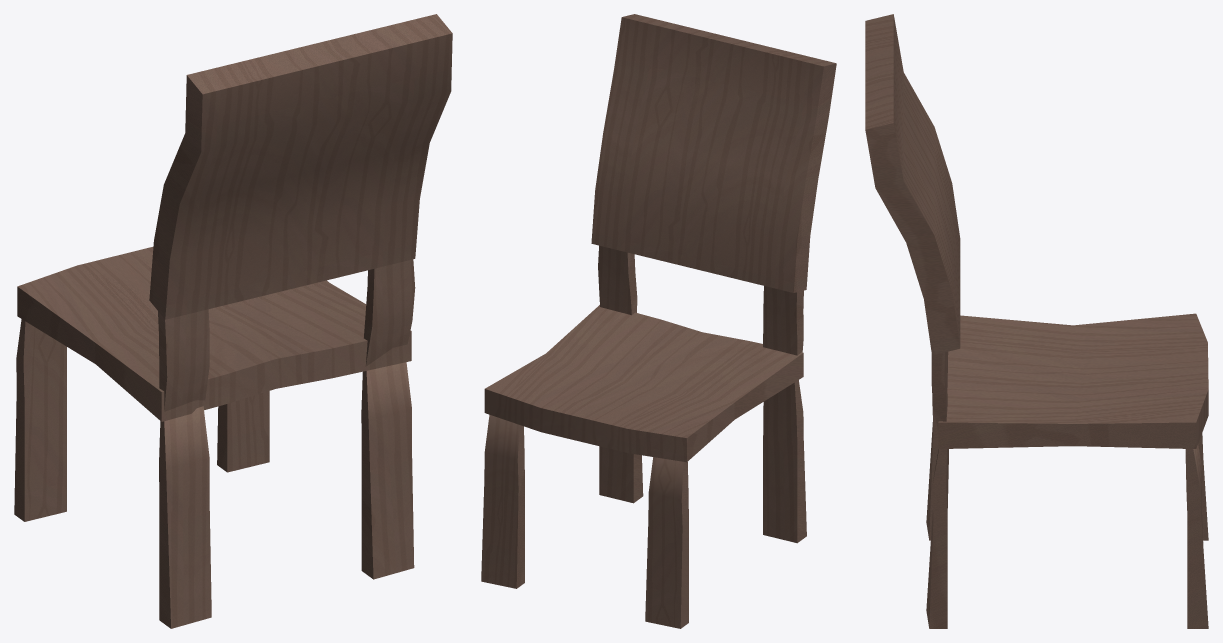
File: Chair.fbx
The picture shows the model from 3 angles, left to right: view 1: azimuth 30°, elevation 25°; view 2: azimuth 150°, elevation 25°; view 3: azimuth 270°, elevation 25°; orthographic projection. The views are drawn at different scales.
Parts seen in each view (by area): view 1: Chair.001; view 2: Chair.001; view 3: Chair.001.
Boxes of the visible parts, box(x1,y1,x2,y2) form: Chair.001: box(14, 14, 452, 628); Chair.001: box(481, 14, 836, 628); Chair.001: box(865, 14, 1208, 628).
Size of the model in its own units: 108 by 230 by 141.
